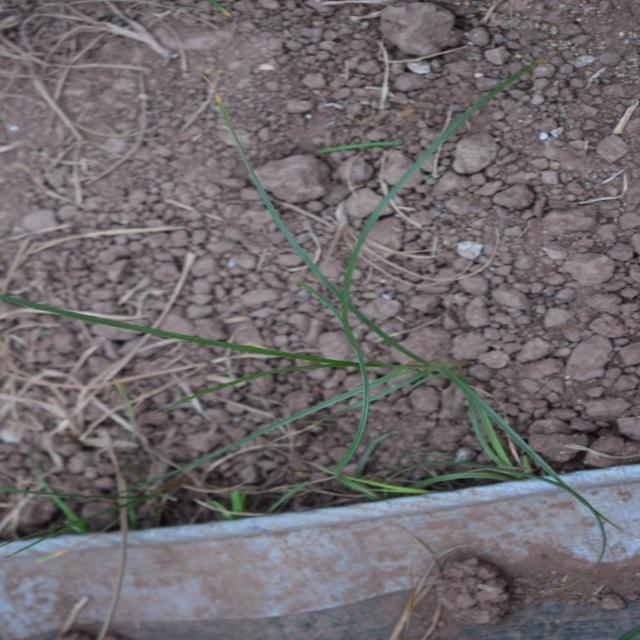sedge: (135, 100, 522, 550)
